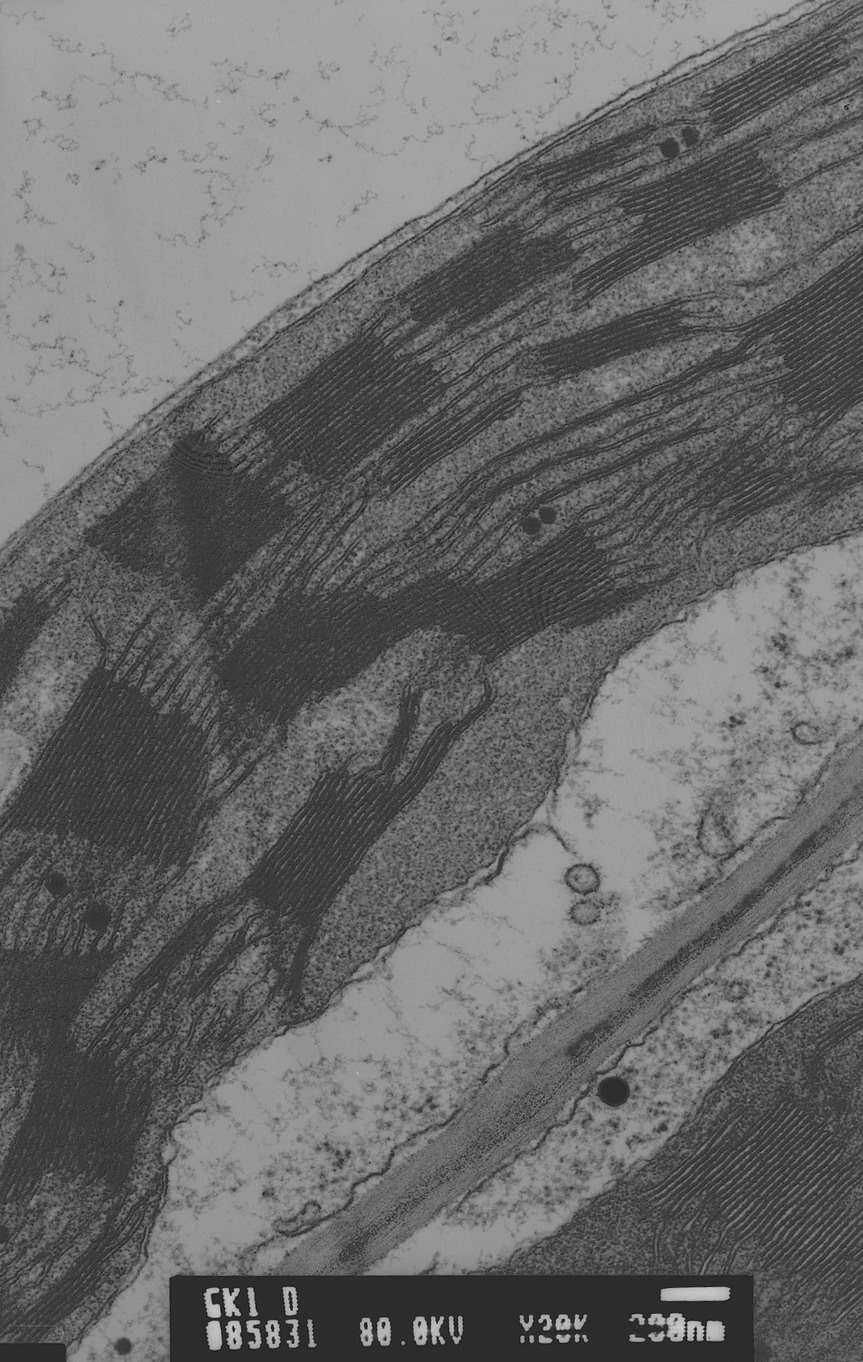granum: (635, 1095, 863, 1315), (236, 716, 464, 931), (0, 664, 225, 876), (78, 423, 302, 624), (566, 137, 791, 307), (248, 324, 450, 489), (208, 585, 420, 726), (732, 241, 863, 440), (1, 1046, 157, 1208), (480, 522, 657, 645), (392, 221, 583, 333), (371, 384, 527, 503), (703, 20, 853, 139), (523, 297, 698, 385), (0, 947, 129, 1062), (0, 1230, 124, 1343), (385, 568, 522, 665), (129, 902, 226, 994), (0, 587, 66, 705), (711, 461, 806, 534), (534, 138, 631, 193), (660, 346, 747, 399), (188, 929, 253, 998), (375, 681, 422, 775), (810, 1005, 863, 1057)
